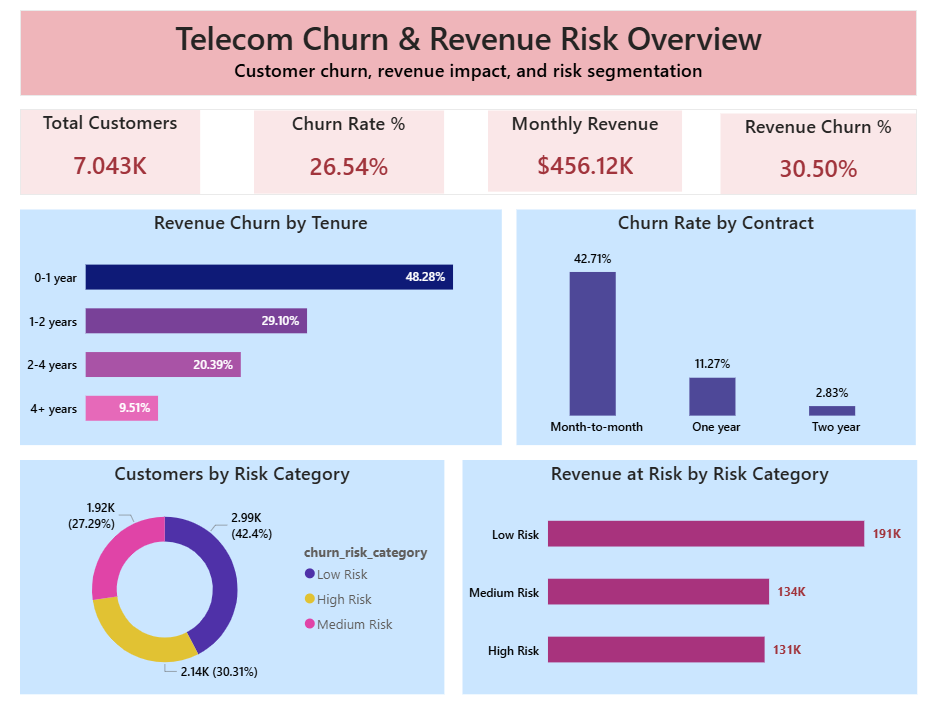

What the dashboard file says about the page in this screenshot:
{"tool":"powerbi","page":{"name":"Page 1","canvas":[1070,720],"ordinal":0},"visuals":[{"type":"textbox","box":[87.9,12.1,906.1,86.4],"z":0},{"type":"cardVisual","title":"Total Customers","fields":{"Data":["Count(processed telco_churn_clean.customer_id)"]},"box":[88,112,182,86],"z":1000,"group":"g1"},{"type":"clusteredColumnChart","title":"Churn Rate by Contract","fields":{"Y":["processed telco_churn_clean.Churn Rate %"],"Category":["processed telco_churn_clean.contract"]},"box":[589.4,213.6,403,237.9],"z":1000},{"type":"cardVisual","title":"Churn Rate %","fields":{"Data":["processed telco_churn_clean.Churn Rate %"]},"box":[324,114,192,84],"z":2000,"group":"g1"},{"type":"clusteredBarChart","title":"Revenue Churn by Tenure","fields":{"Y":["processed telco_churn_clean.Churn Rate %"],"Category":["processed telco_churn_clean.tenure_bucket"]},"box":[87.9,213.6,486.4,237.9],"z":2000},{"type":"cardVisual","title":"Monthly Revenue","fields":{"Data":["Sum(processed telco_churn_clean.monthly_charges)"]},"box":[560,114,196,82],"z":3000,"group":"g1"},{"type":"donutChart","title":"Customers by Risk Category","fields":{"Category":["processed telco_churn_risk.churn_risk_category"],"Y":["CountNonNull(processed telco_churn_risk.customer_id)"]},"box":[87.9,466.7,428.8,236.4],"z":3000},{"type":"cardVisual","title":"Revenue Churn %","fields":{"Data":["processed telco_churn_clean.Revenue Churn %"]},"box":[796,116,198,82],"z":4000,"group":"g1"},{"type":"clusteredBarChart","title":"Revenue at Risk by Risk Category","fields":{"Category":["processed telco_churn_risk.churn_risk_category"],"Y":["Sum(processed telco_churn_risk.monthly_charges)"]},"box":[534.8,466.7,459.1,236.4],"z":4000},{"type":"group","id":"g1","title":"Group 1","box":[88,112,906,86],"z":5000}]}

Visuals, with their boxes on the page's 1070x720 design canvas (x1, y1, x2, y2). These are canvas units, not pixel positions in the 943x706 screenshot, which may show the page scaled, cropped or inside an application window:
textbox: [88, 12, 994, 98]
"Total Customers" cardVisual: [88, 112, 270, 198]
"Churn Rate by Contract" clusteredColumnChart: [589, 214, 992, 452]
"Churn Rate %" cardVisual: [324, 114, 516, 198]
"Revenue Churn by Tenure" clusteredBarChart: [88, 214, 574, 452]
"Monthly Revenue" cardVisual: [560, 114, 756, 196]
"Customers by Risk Category" donutChart: [88, 467, 517, 703]
"Revenue Churn %" cardVisual: [796, 116, 994, 198]
"Revenue at Risk by Risk Category" clusteredBarChart: [535, 467, 994, 703]
"Group 1" group: [88, 112, 994, 198]
